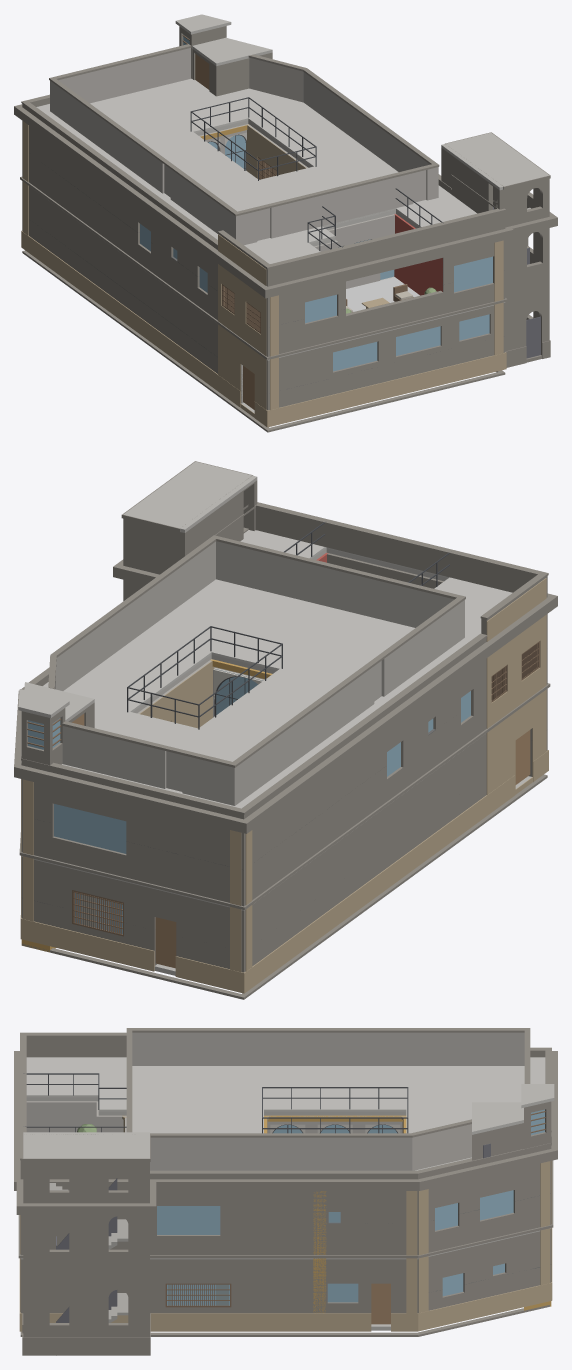
File: taif_house_V8.0.glb
The picture shows the model from 3 angles, top to bottom: view 1: azimuth 30°, elevation 25°; view 2: azimuth 150°, elevation 25°; view 3: azimuth 270°, elevation 25°; orthographic projection. The views are drawn at different scales.
Visible parts, largest first — view 1: roof_finish_floor, roof_attic_wall, gf_outer, ff_outer, chr_base_stone_plinth, roof_cornice, ext_tower_wall_s, chr_base_stone_feature_wall_00, roof_parapet_s, roof_attic_coping, ext_tower_roof, chr_base_stone_quoins (+31 smaller); view 2: roof_finish_floor, roof_attic_wall, ff_outer, gf_outer, chr_base_stone_plinth, roof_cornice, chr_base_stone_feature_wall_00, roof_parapet_s, roof_attic_coping, chr_base_stone_quoins, ext_tower_roof, roof_coping_n (+22 smaller); view 3: roof_finish_floor, roof_attic_wall, ext_tower_wall_e, ff_outer, gf_outer, chr_base_stone_plinth, roof_cornice, roof_attic_coping, chr_base_stone_quoins, ext_tower_roof, ext_tower_plinth, roof_coping_n (+39 smaller).
Part boxes in pixels (left/top/right/bottom): roof_finish_floor: left=36, top=78, right=476, bottom=263; roof_attic_wall: left=50, top=48, right=438, bottom=245; gf_outer: left=22, top=181, right=505, bottom=410; ff_outer: left=22, top=121, right=505, bottom=356; chr_base_stone_plinth: left=21, top=230, right=506, bottom=427; roof_cornice: left=14, top=104, right=513, bottom=298; ext_tower_wall_s: left=504, top=179, right=549, bottom=362; chr_base_stone_feature_wall_00: left=218, top=234, right=266, bottom=417; roof_parapet_s: left=218, top=177, right=505, bottom=286; roof_attic_coping: left=49, top=44, right=439, bottom=216; ext_tower_roof: left=441, top=132, right=549, bottom=190; chr_base_stone_quoins: left=23, top=121, right=503, bottom=410; roof_finish_floor: left=43, top=530, right=512, bottom=808; roof_attic_wall: left=55, top=541, right=464, bottom=805; ff_outer: left=21, top=553, right=547, bottom=906; gf_outer: left=21, top=689, right=547, bottom=972; chr_base_stone_plinth: left=20, top=750, right=548, bottom=993; roof_cornice: left=14, top=527, right=557, bottom=833; chr_base_stone_feature_wall_00: left=486, top=578, right=546, bottom=794; roof_parapet_s: left=218, top=507, right=547, bottom=634; roof_attic_coping: left=48, top=535, right=465, bottom=767; chr_base_stone_quoins: left=21, top=615, right=546, bottom=972; ext_tower_roof: left=123, top=461, right=257, bottom=532; roof_coping_n: left=21, top=633, right=487, bottom=814; roof_finish_floor: left=26, top=1057, right=545, bottom=1170; roof_attic_wall: left=132, top=1032, right=524, bottom=1170; ext_tower_wall_e: left=23, top=1162, right=149, bottom=1337; ff_outer: left=20, top=1161, right=551, bottom=1255; gf_outer: left=20, top=1229, right=551, bottom=1313; chr_base_stone_plinth: left=19, top=1228, right=552, bottom=1331; roof_cornice: left=14, top=1051, right=557, bottom=1190; roof_attic_coping: left=126, top=1028, right=530, bottom=1137; chr_base_stone_quoins: left=20, top=1160, right=551, bottom=1313; ext_tower_roof: left=23, top=1132, right=149, bottom=1158; ext_tower_plinth: left=22, top=1313, right=150, bottom=1355; roof_coping_n: left=127, top=1047, right=551, bottom=1175.
Size of the model in its own units: 16.76 by 10.6 by 24.85.
